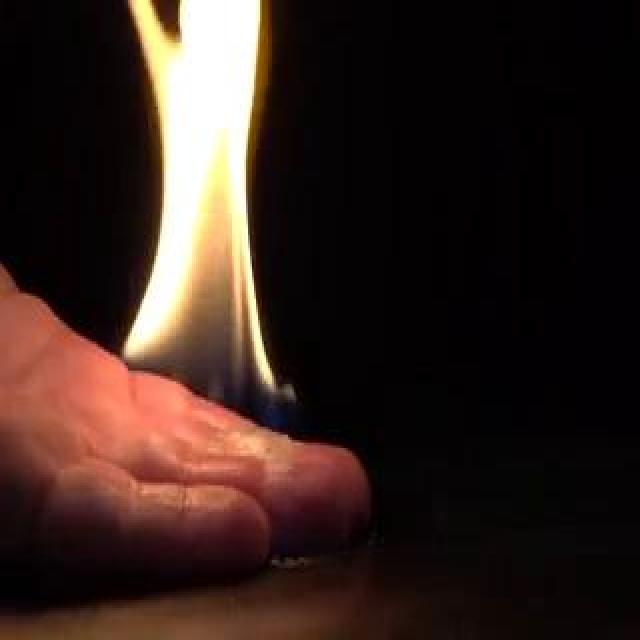Fire: (78, 264, 225, 298)
